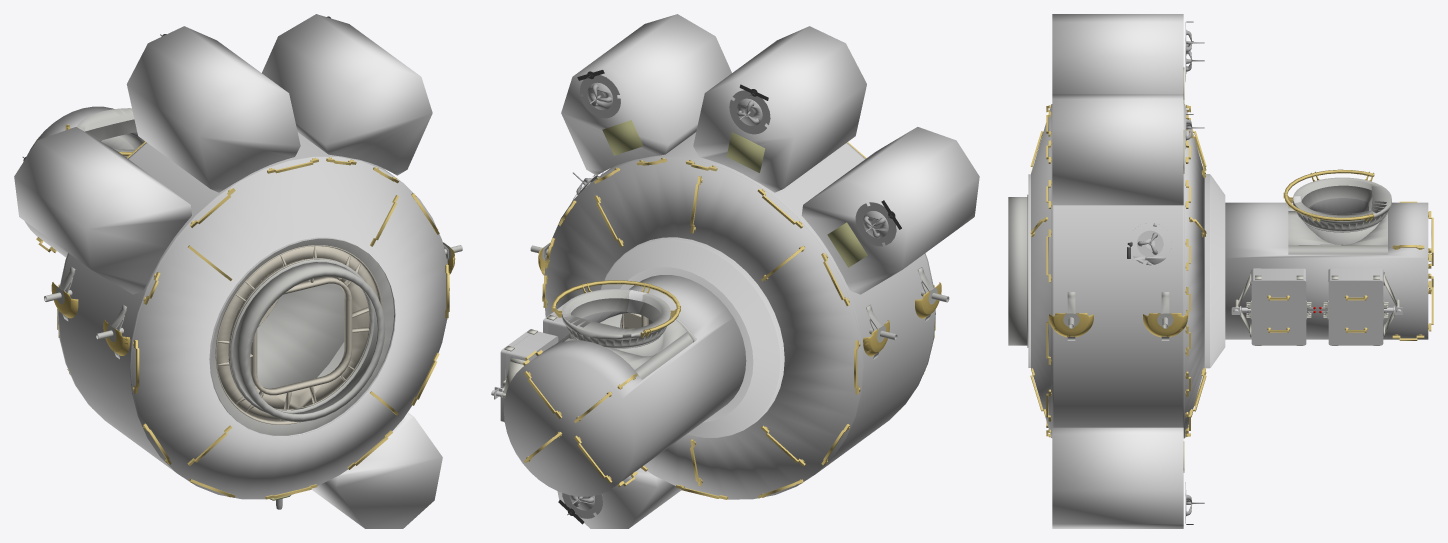
File: Airlockfbx_solidify.fbx
3 renders of one model, left to right at view 1: azimuth 30°, elevation 25°; view 2: azimuth 150°, elevation 25°; view 3: azimuth 270°, elevation 25°, orthographic. The views are drawn at different scales.
Parts seen in each view (by area): view 1: main-struct, Gas2, Gas1, Gas3, Gas4; view 2: main-struct, Gas2, Gas1, Gas3, Gas4, Toolbox; view 3: main-struct, Gas3, Gas4, Gas2, Toolbox.
Part boxes in pixels (x1,y1,x2,y2): main-struct: (24, 106, 462, 509); Gas2: (126, 26, 300, 192); Gas1: (14, 127, 191, 294); Gas3: (262, 14, 432, 175); Gas4: (311, 412, 442, 528); main-struct: (503, 132, 949, 499); Gas2: (693, 26, 866, 192); Gas1: (801, 127, 979, 294); Gas3: (561, 14, 731, 175); Gas4: (557, 468, 681, 528); Toolbox: (491, 298, 571, 422); main-struct: (1008, 104, 1433, 438); Gas3: (1052, 94, 1204, 205); Gas4: (1052, 427, 1204, 528); Gas2: (1052, 14, 1204, 99); Toolbox: (1231, 268, 1402, 345).
Bounding box in the file's own units: 211 × 255 × 223.
